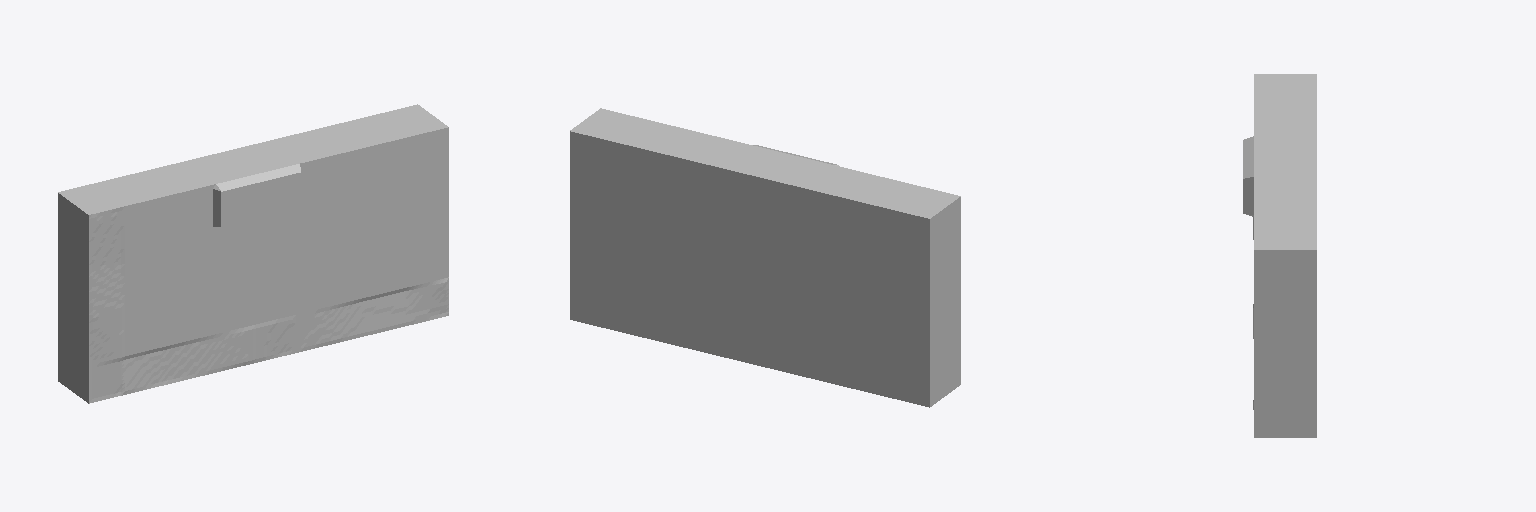
Rendered from rectangular_prism_bumps_4_7.obj.
The picture shows the model from 3 angles: view 1: azimuth 30°, elevation 25°; view 2: azimuth 150°, elevation 25°; view 3: azimuth 270°, elevation 25°; orthographic projection.
Size of the model in its own units: 10 by 5 by 1.75.